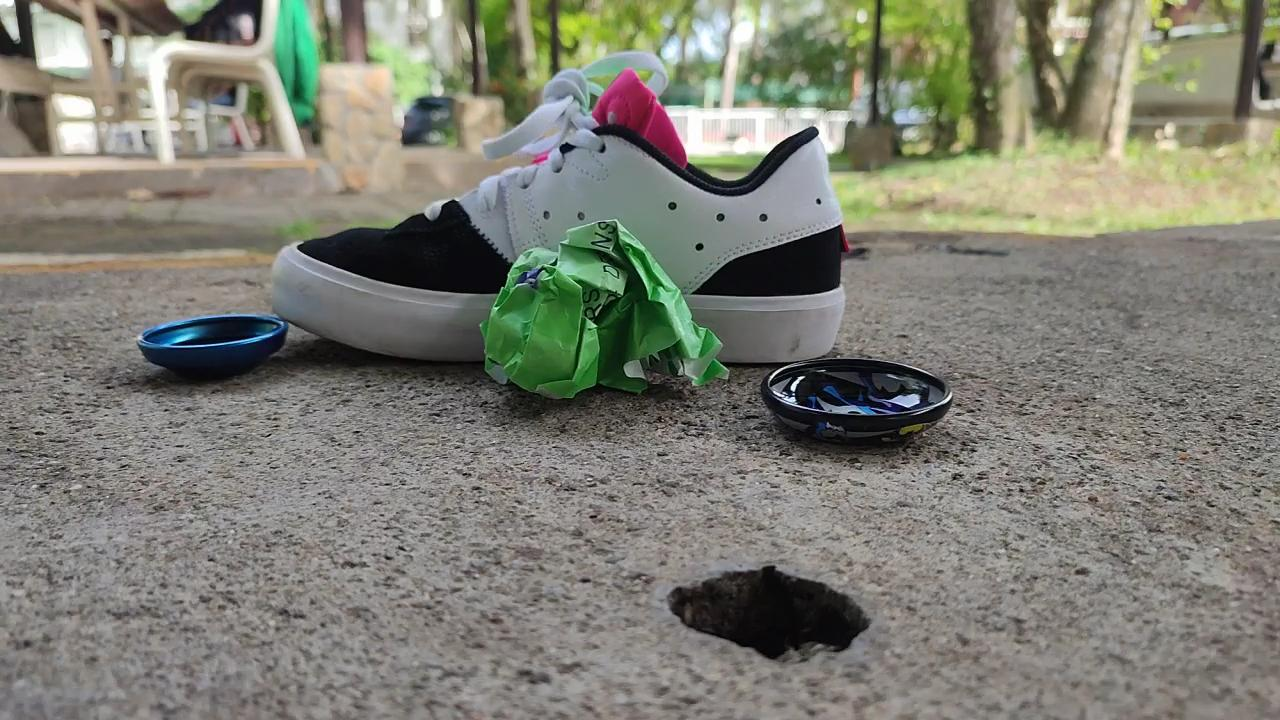Paper: (456, 200, 749, 416)
